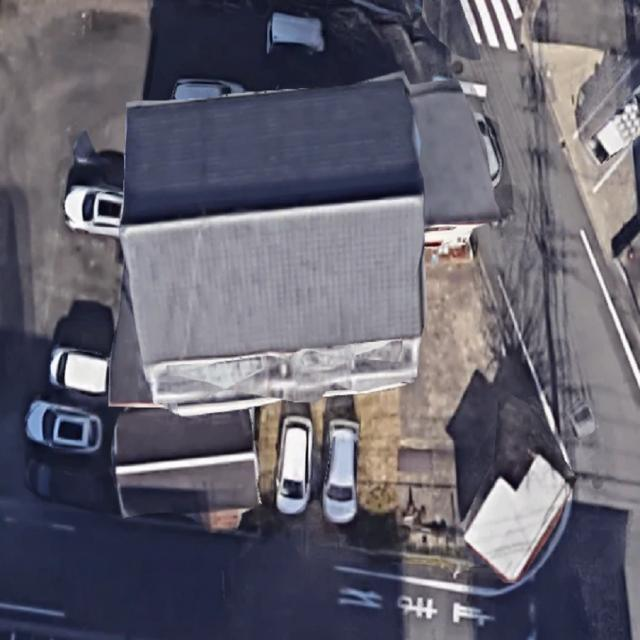Batiment: (120, 80, 425, 405), (112, 408, 260, 516), (464, 455, 571, 583)
